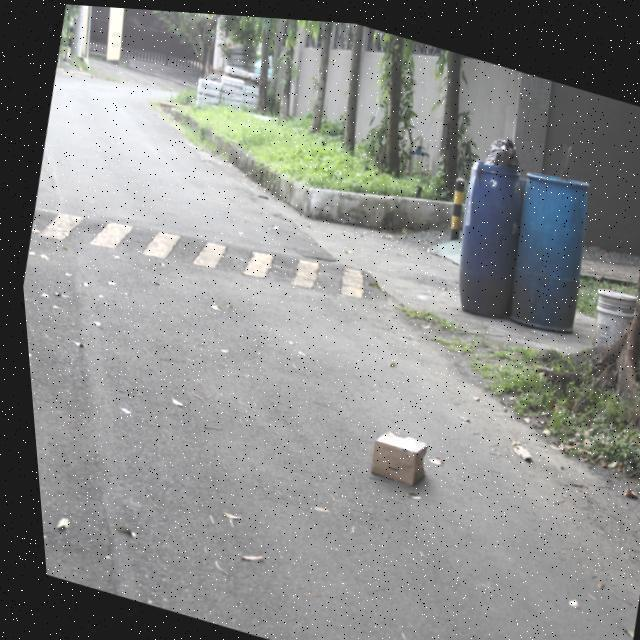Paper_Bag: (358, 422, 427, 484)
